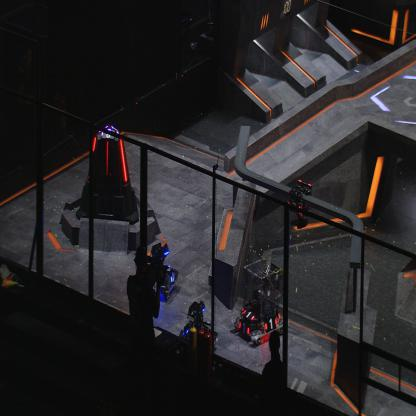car: (234, 254, 285, 345), (179, 298, 218, 354), (143, 243, 179, 300)
